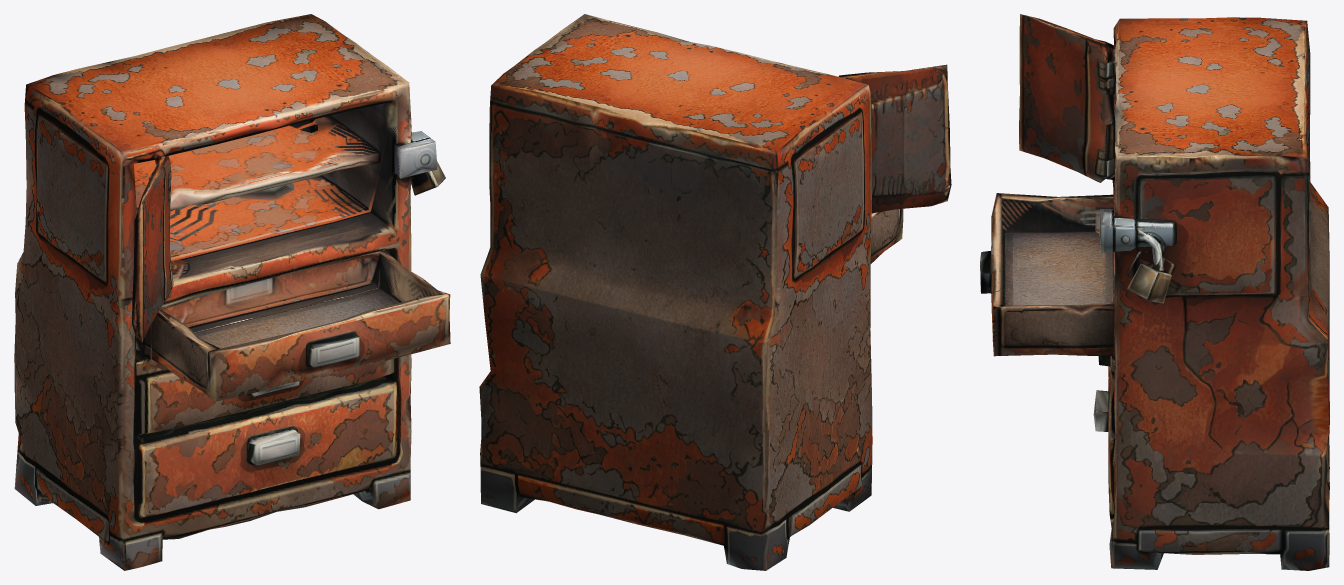
File: Loot_ToolCabinet_Open.fbx
3 views of the same model, side by side, from view 1: azimuth 30°, elevation 25°; view 2: azimuth 150°, elevation 25°; view 3: azimuth 270°, elevation 25° (orthographic).
Visible parts, largest first — view 1: texture_mapping; view 2: texture_mapping; view 3: texture_mapping.
Part boxes in pixels (x1,y1,x2,y2): texture_mapping: [14, 14, 450, 570]; texture_mapping: [479, 14, 951, 570]; texture_mapping: [980, 14, 1329, 570].
Bounding box in the file's own units: 0.935 × 0.7629 × 1.01.
1 material, 1 textured.
